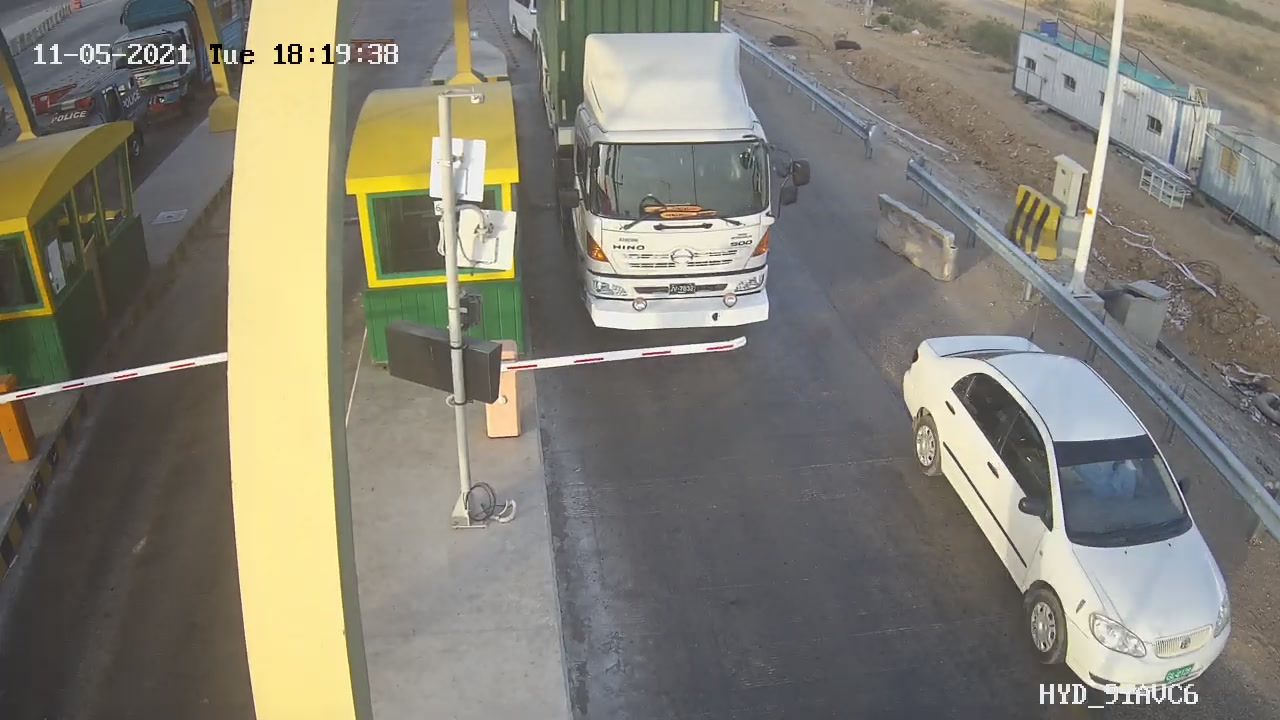F6: (518, 4, 819, 333)
